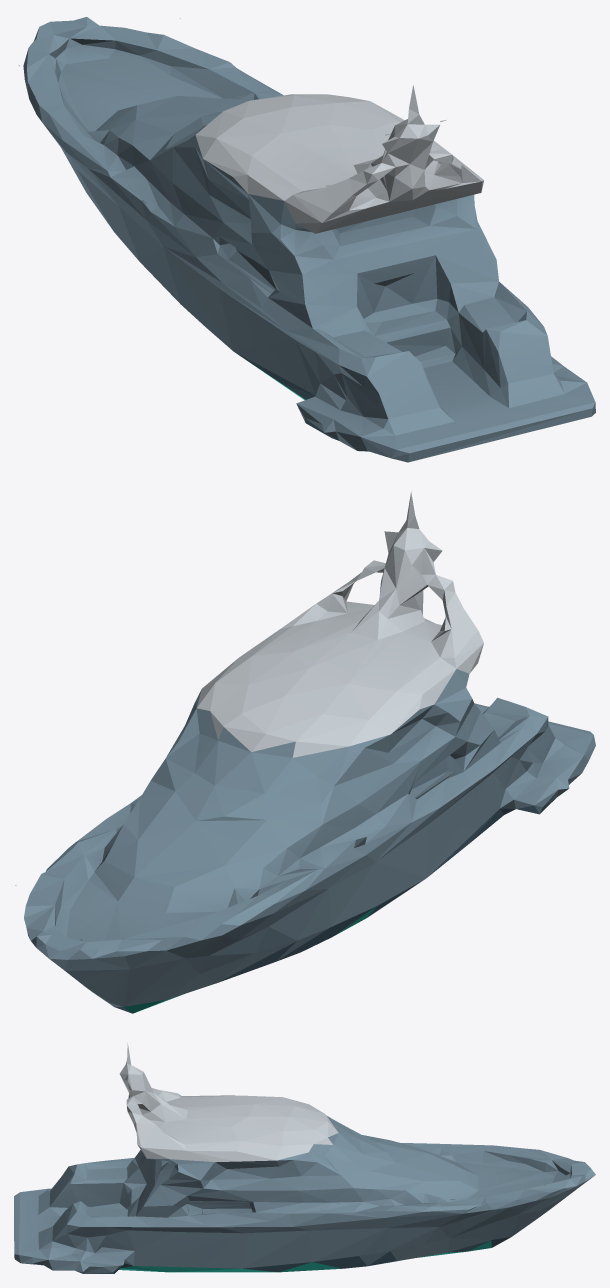
Rendered from pleasure.glb.
3 views of the same model, one above another, from view 1: azimuth 30°, elevation 25°; view 2: azimuth 150°, elevation 25°; view 3: azimuth 270°, elevation 25° (orthographic). The views are drawn at different scales.
Visible parts, largest first — view 1: lod0; view 2: lod0; view 3: lod0.
Part boxes in pixels (bbox=[...]): lod0: bbox=[18, 17, 595, 462]; lod0: bbox=[15, 491, 595, 1013]; lod0: bbox=[14, 1043, 595, 1273].
Size of what is drawn, in the model's own units: 0.3151 by 0.3855 by 0.9942.
